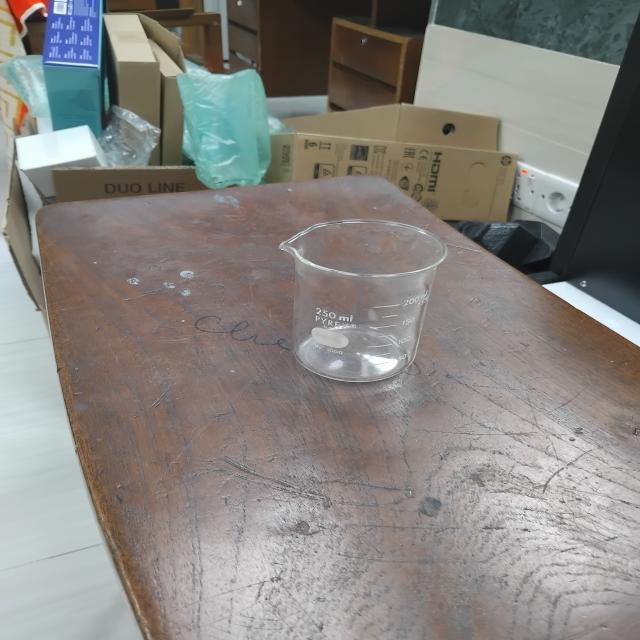Beaker: (250, 205, 462, 406)
